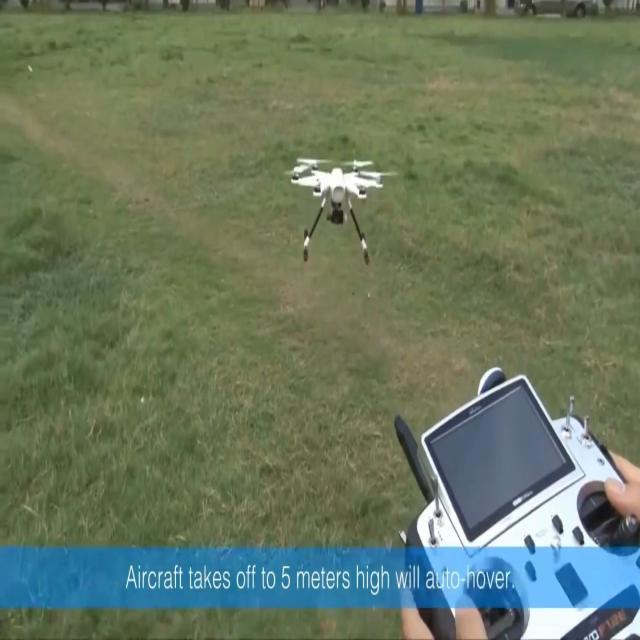drone: (285, 156, 398, 266)
